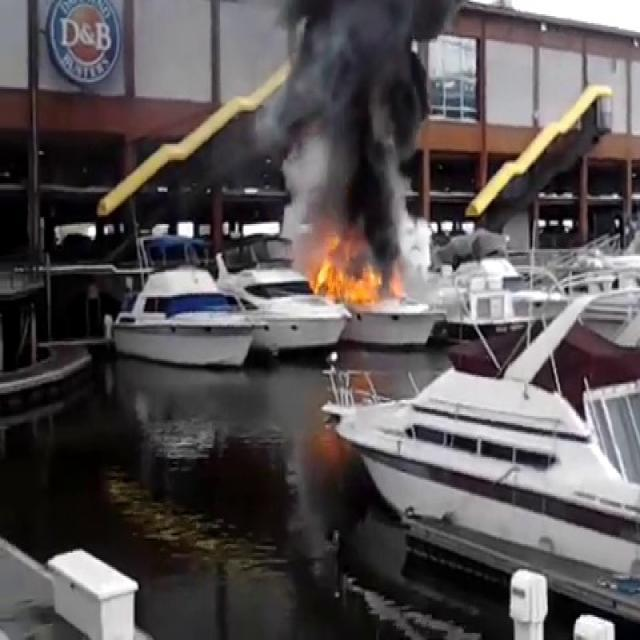Fire: (299, 228, 401, 316)
Smoke: (235, 0, 464, 242)
